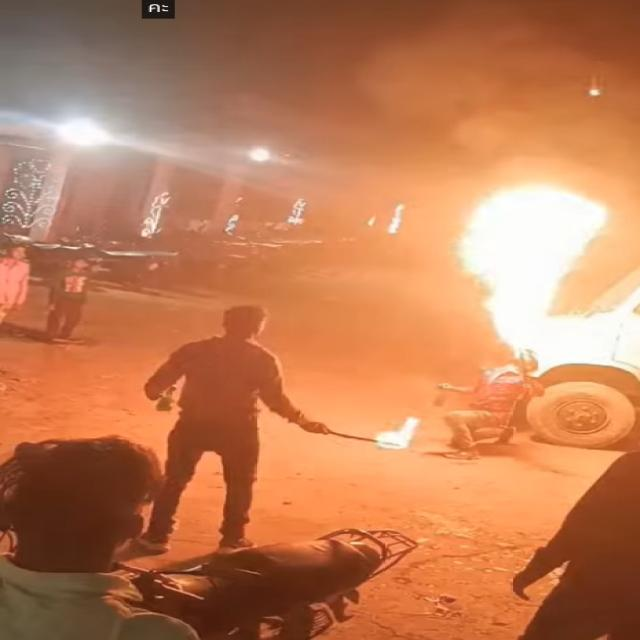fire: (459, 184, 609, 277), (481, 278, 559, 349), (375, 418, 420, 450)
